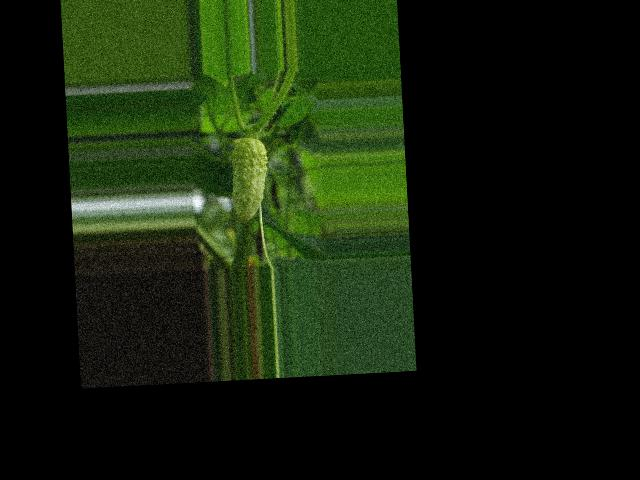cucumber: (230, 136, 271, 224)
